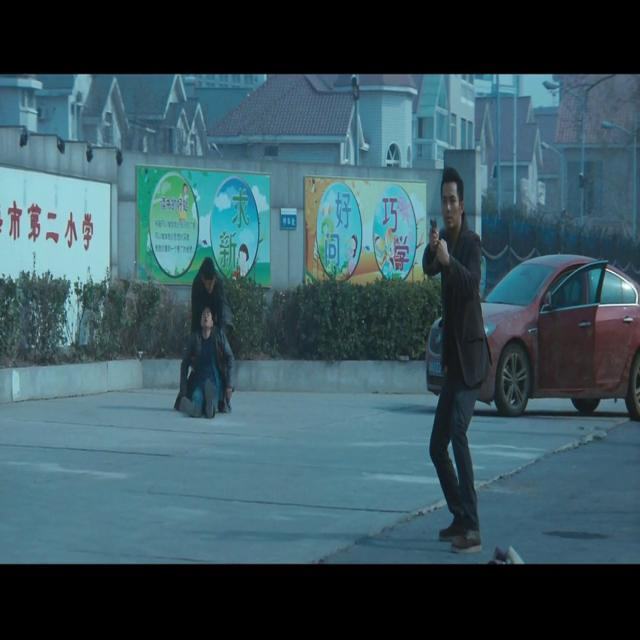gun-knife-thesis - v11 Yolov5 augmented: (427, 216, 438, 247)
